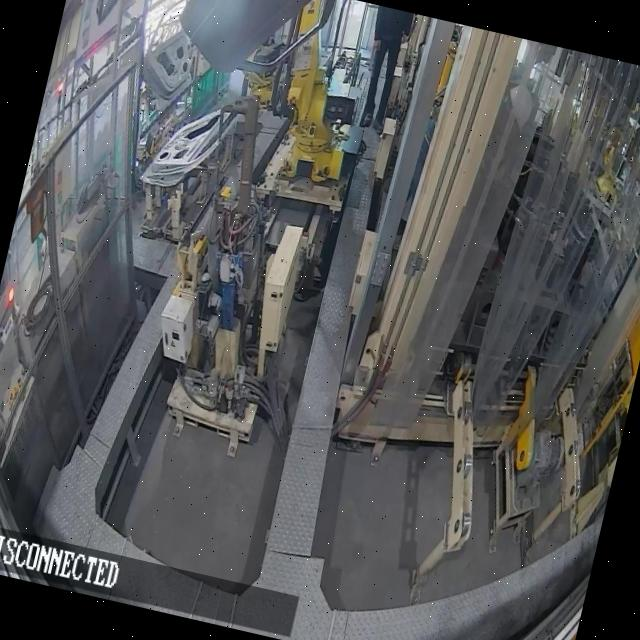Person: (349, 5, 414, 134)
